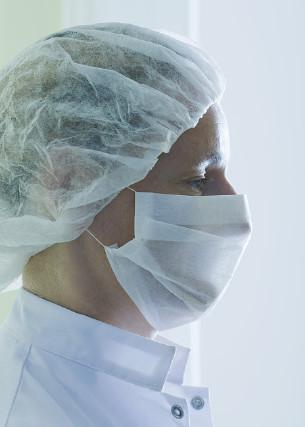OK: (63, 132, 256, 325)
